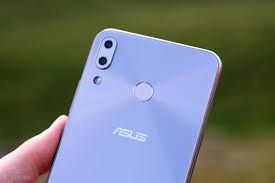asus: (39, 23, 224, 183)
